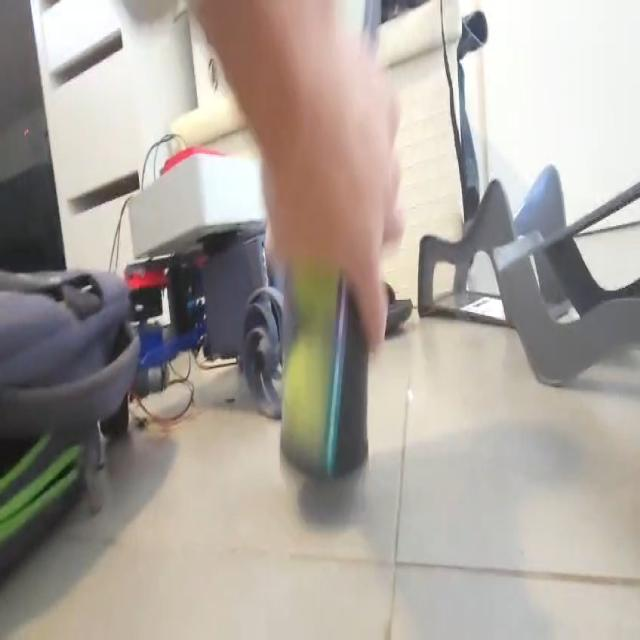Robot: (123, 144, 284, 422)
